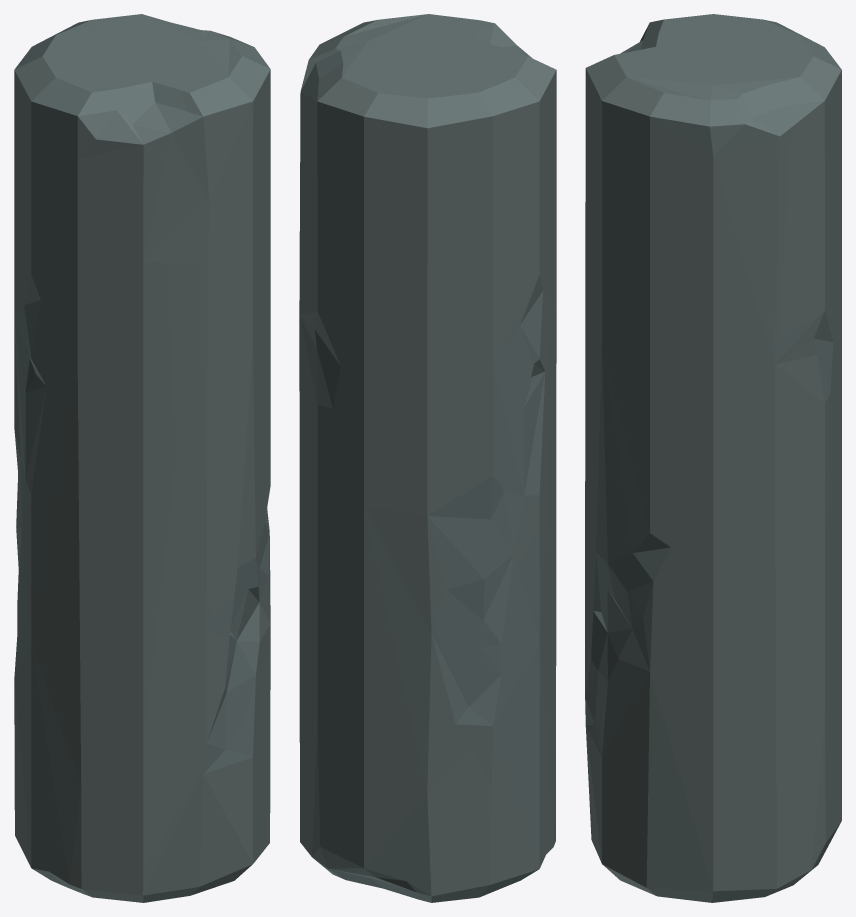
File: GimmicksRAW.fbx
3 renders of one model, left to right at view 1: azimuth 30°, elevation 25°; view 2: azimuth 150°, elevation 25°; view 3: azimuth 270°, elevation 25°, orthographic.
Parts seen in each view (by area): view 1: SM_Env_Wall_Pillar_Large_Round_01; view 2: SM_Env_Wall_Pillar_Large_Round_01; view 3: SM_Env_Wall_Pillar_Large_Round_01.
Boxes of the visible parts, x1=… form: SM_Env_Wall_Pillar_Large_Round_01: x1=14, y1=14, x2=270, y2=902; SM_Env_Wall_Pillar_Large_Round_01: x1=299, y1=14, x2=556, y2=902; SM_Env_Wall_Pillar_Large_Round_01: x1=585, y1=14, x2=841, y2=902.
Bounding box in the file's own units: 149 × 522 × 149.
